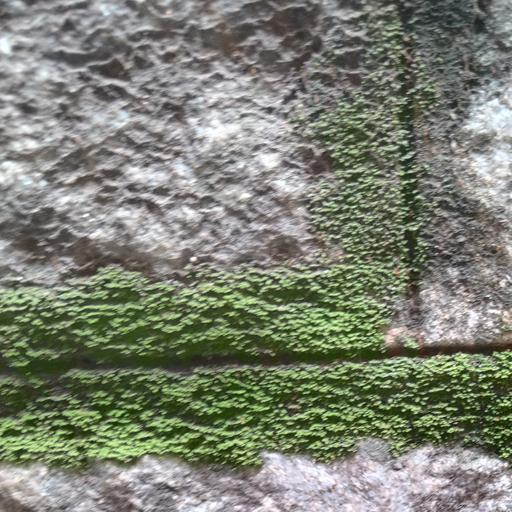algae: (0, 261, 512, 473)
